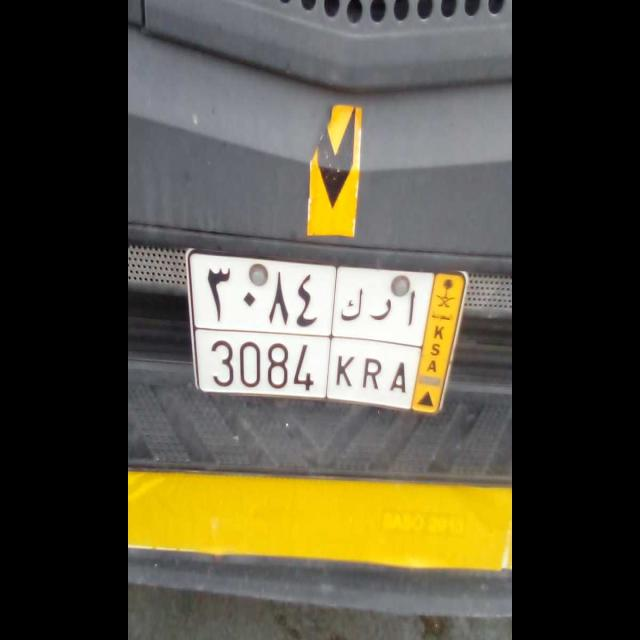license_plate: (192, 328, 417, 410)
